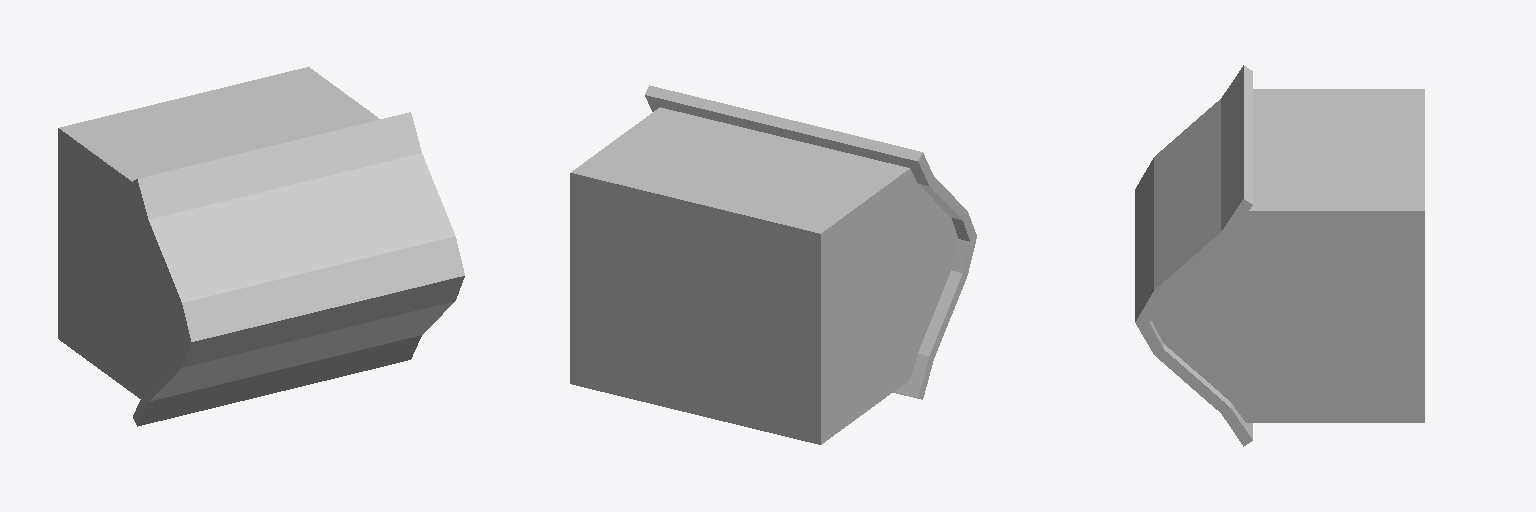
The model's file is barn.obj.
3 renders of one model, left to right at view 1: azimuth 30°, elevation 25°; view 2: azimuth 150°, elevation 25°; view 3: azimuth 270°, elevation 25°, orthographic.
Parts seen in each view (by area): view 1: Object_4_Object_0; view 2: Object_4_Object_0; view 3: Object_4_Object_0.
Part boxes in pixels (x1,y1,x2,y2): Object_4_Object_0: (58,67,464,426); Object_4_Object_0: (570,85,976,444); Object_4_Object_0: (1135,65,1424,446).
Size of the model in its own units: 3.28 by 2.84 by 3.01.